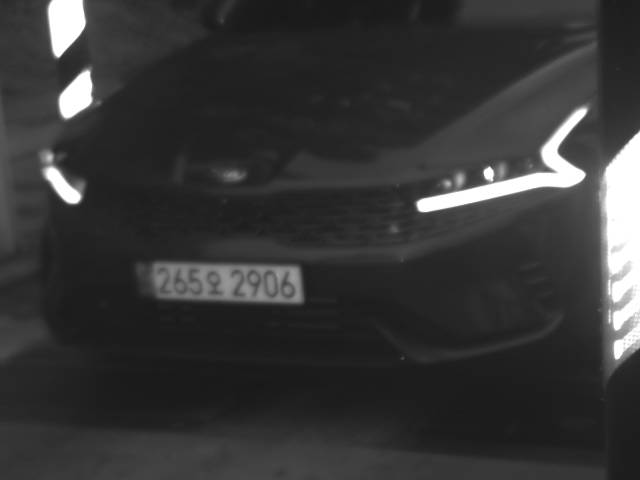car: (29, 1, 598, 382)
plate: (132, 259, 307, 308)
